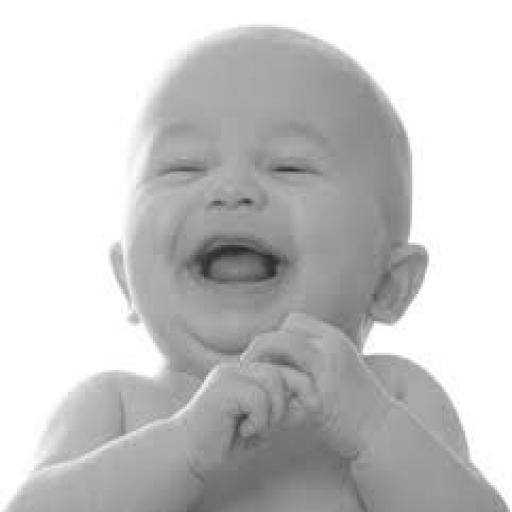laughing: (0, 17, 510, 510)
